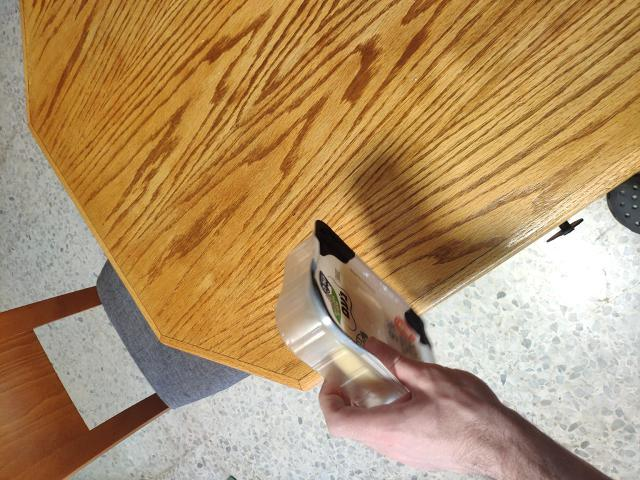cheese: (239, 231, 494, 414)
